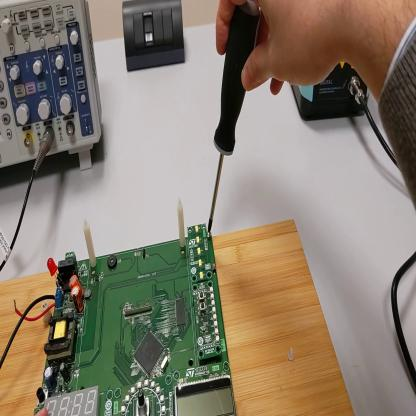hand: (210, 3, 357, 96)
low voltage board: (1, 199, 238, 416)
oscilloscope: (2, 3, 105, 175)
screwdriver-: (210, 2, 264, 234)
welder station: (295, 61, 372, 122)
working area: (2, 220, 355, 416)
